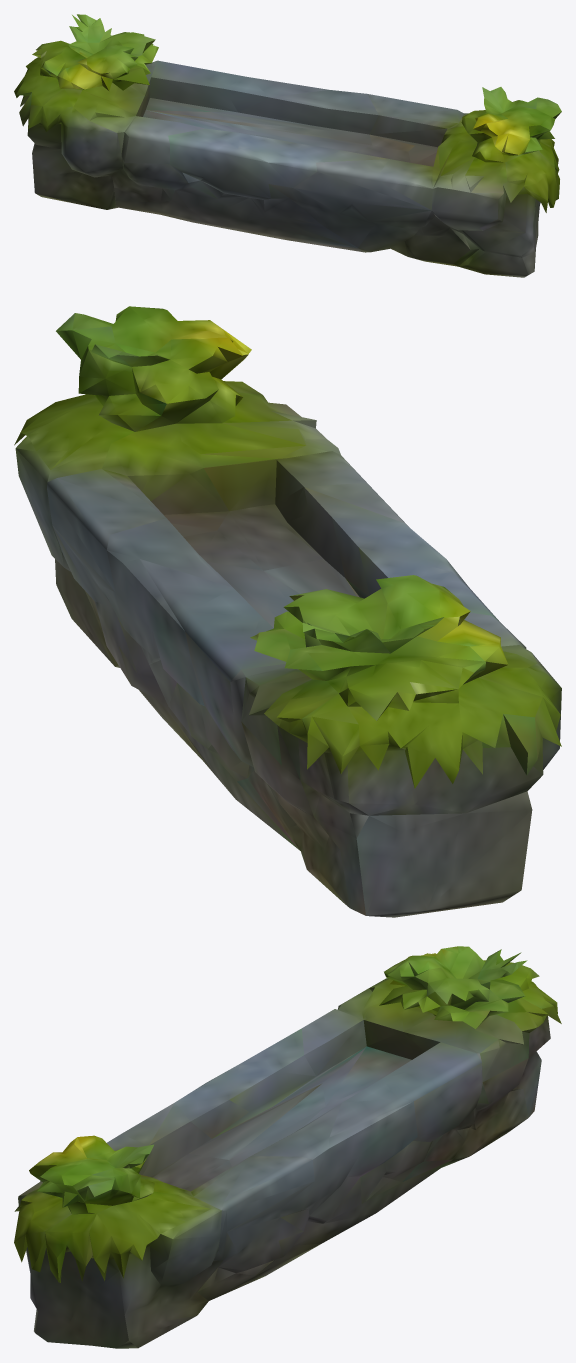
The model's file is labio_cascada.glb.
3 renders of one model, top to bottom at view 1: azimuth 30°, elevation 25°; view 2: azimuth 150°, elevation 25°; view 3: azimuth 270°, elevation 25°, orthographic. The views are drawn at different scales.
Parts seen in each view (by area): view 1: labio_cascada_malla; view 2: labio_cascada_malla; view 3: labio_cascada_malla.
Boxes of the visible parts, bbox=[...] form: labio_cascada_malla: bbox=[14, 14, 561, 277]; labio_cascada_malla: bbox=[14, 306, 561, 917]; labio_cascada_malla: bbox=[14, 946, 561, 1348].
Bounding box in the file's own units: 0.249 × 0.1098 × 0.2375.
Materials: 1 (1 with a texture image).
